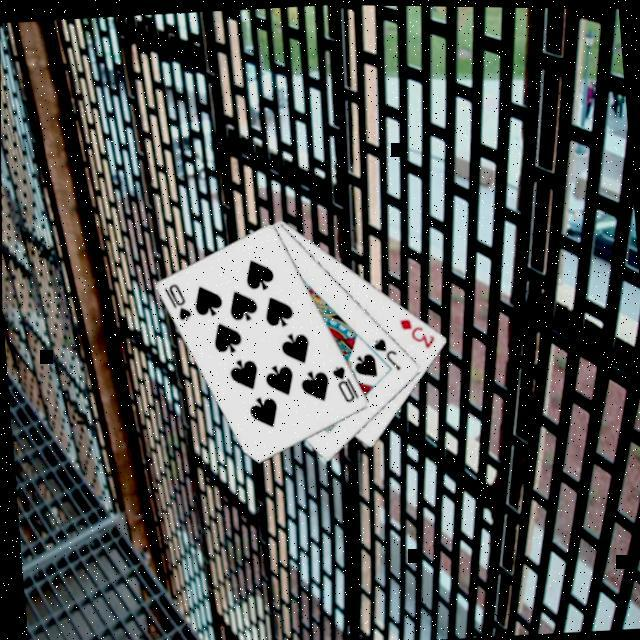10S: (326, 358, 360, 402), (158, 277, 192, 321)
3D: (394, 311, 436, 350)
JS: (366, 331, 401, 372)
